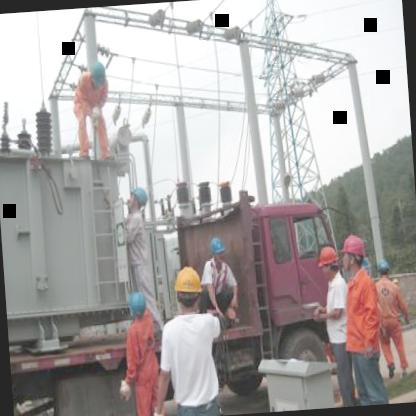helmet: (171, 262, 205, 314), (340, 232, 367, 274), (316, 243, 343, 281), (126, 290, 148, 324), (122, 186, 150, 212), (88, 60, 109, 91), (209, 236, 230, 266), (376, 257, 392, 285)
